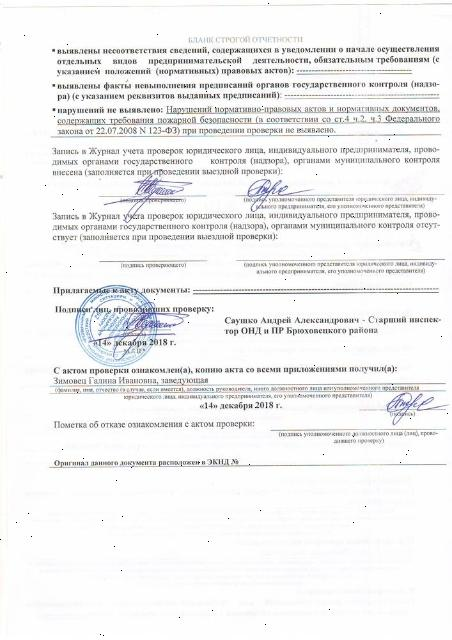stamp: (72, 286, 160, 368)
